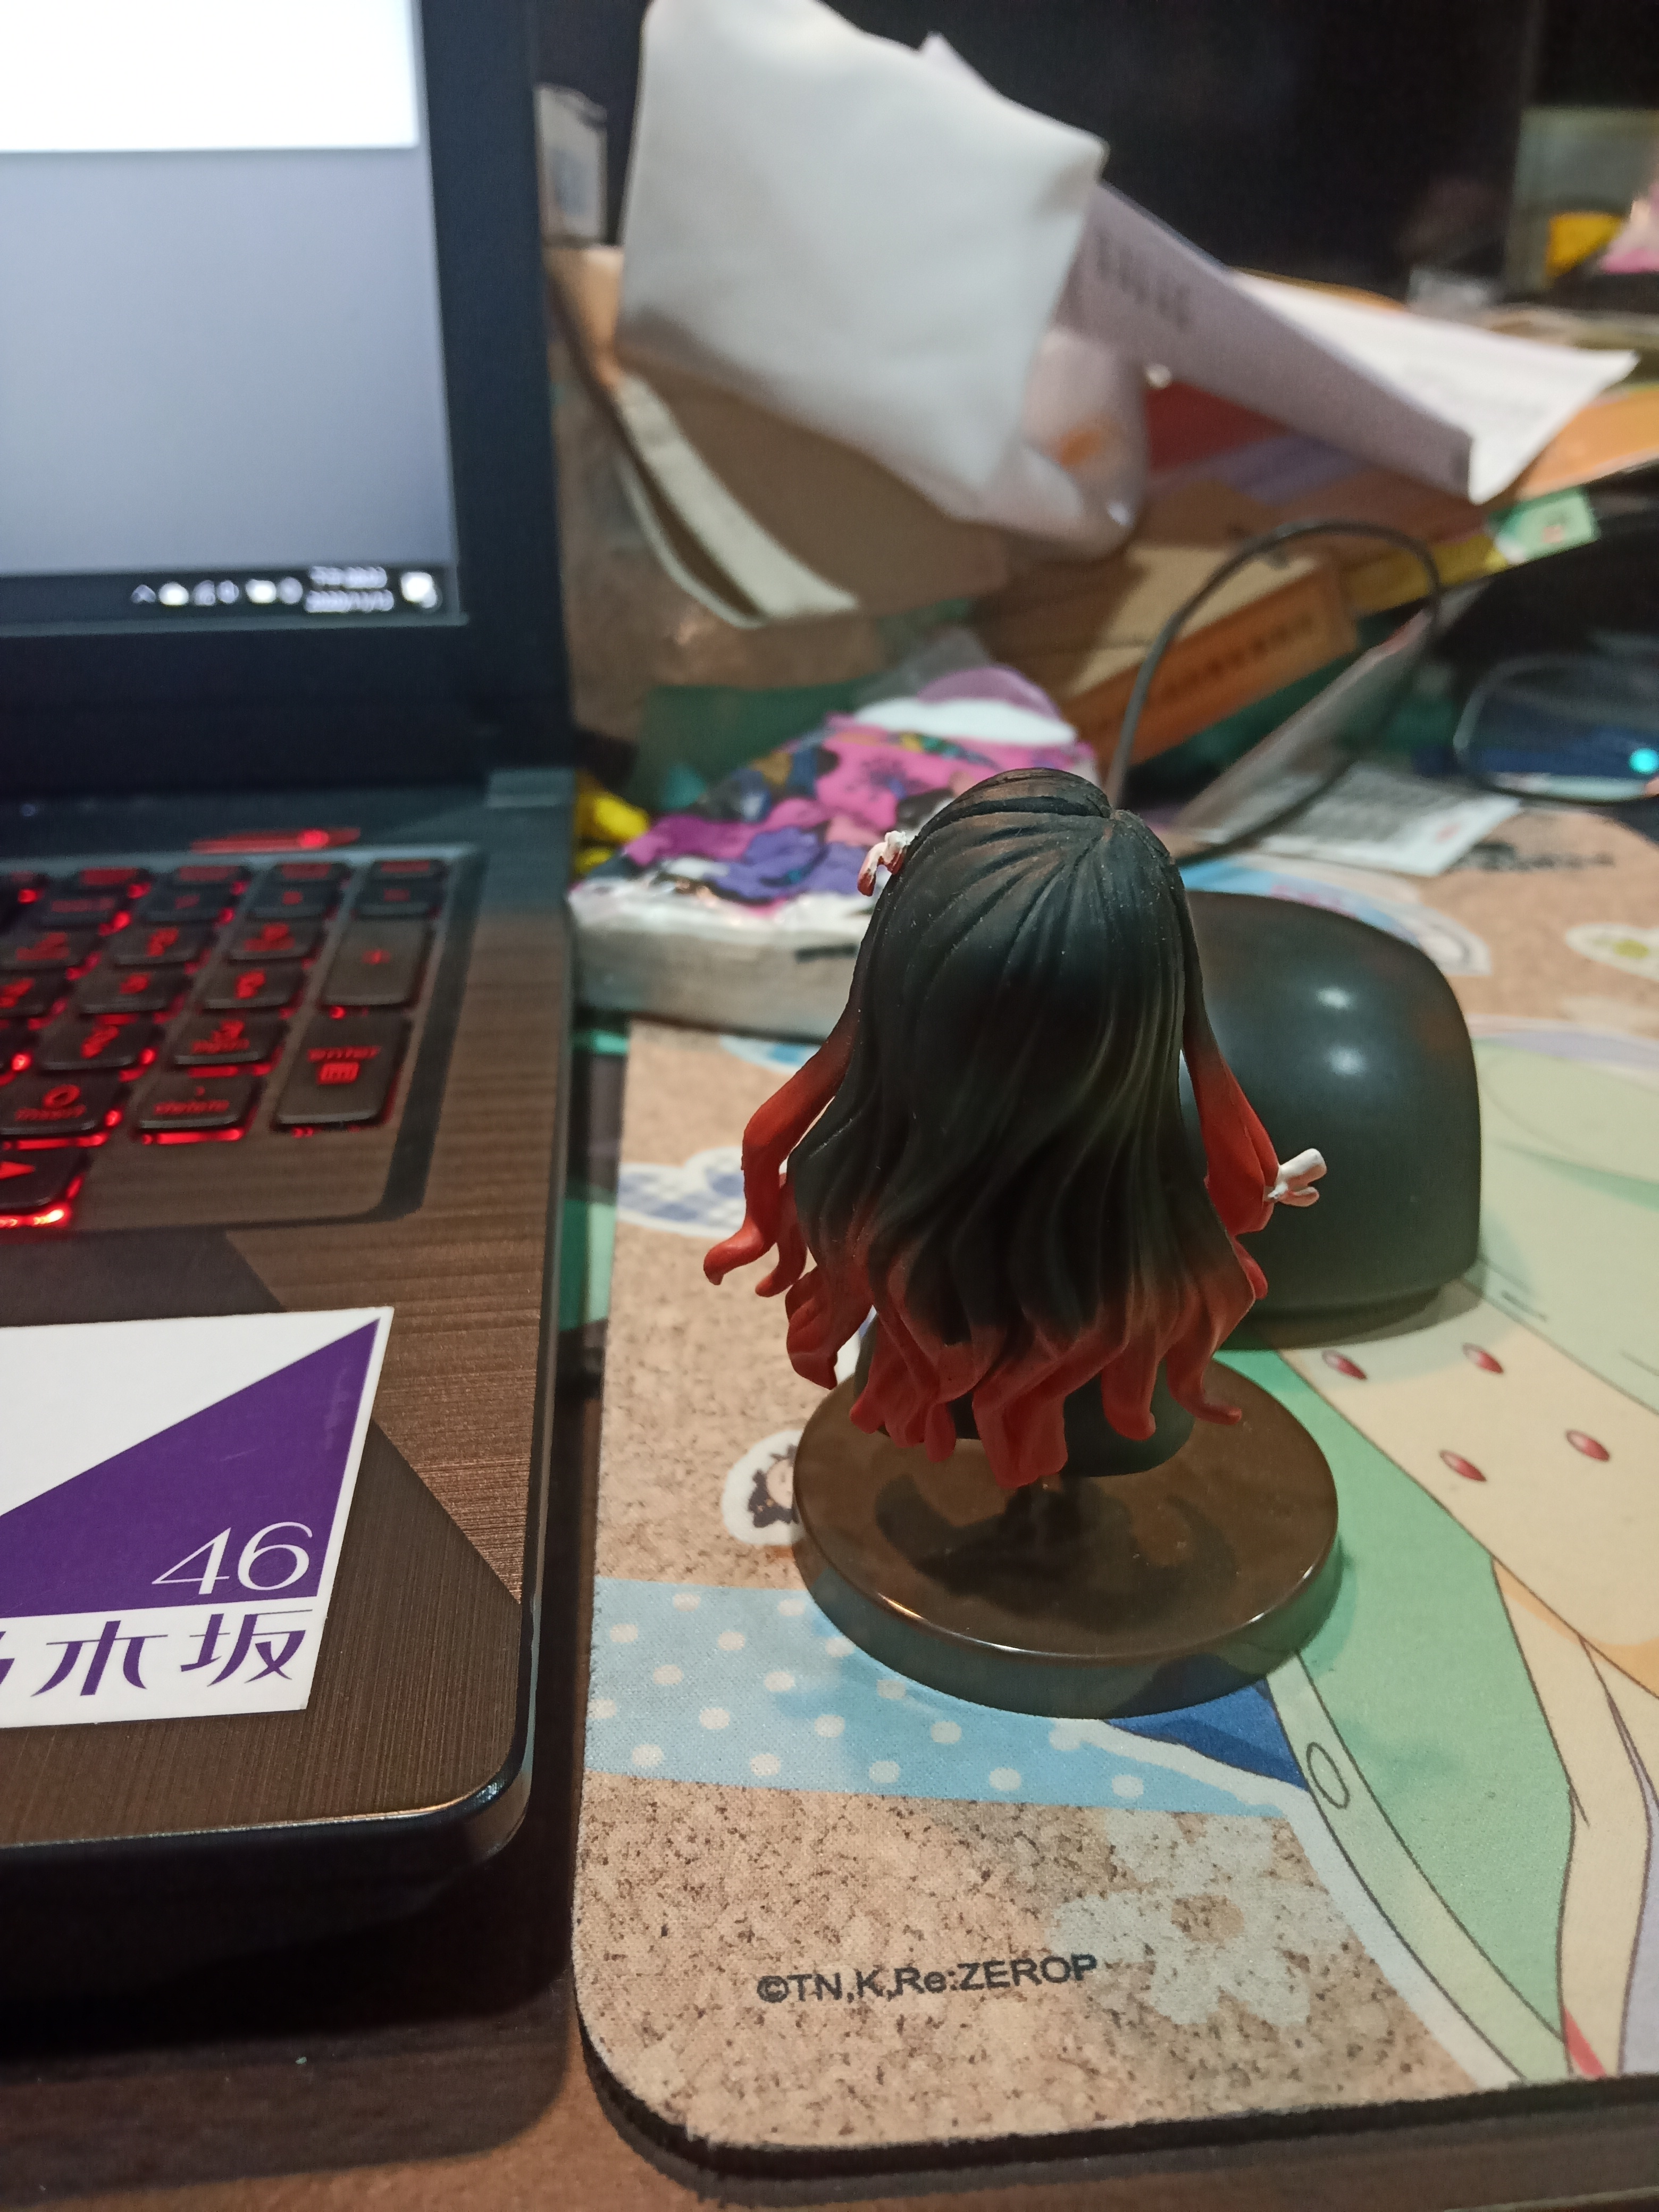Nezuko: (683, 751, 1375, 1731)
